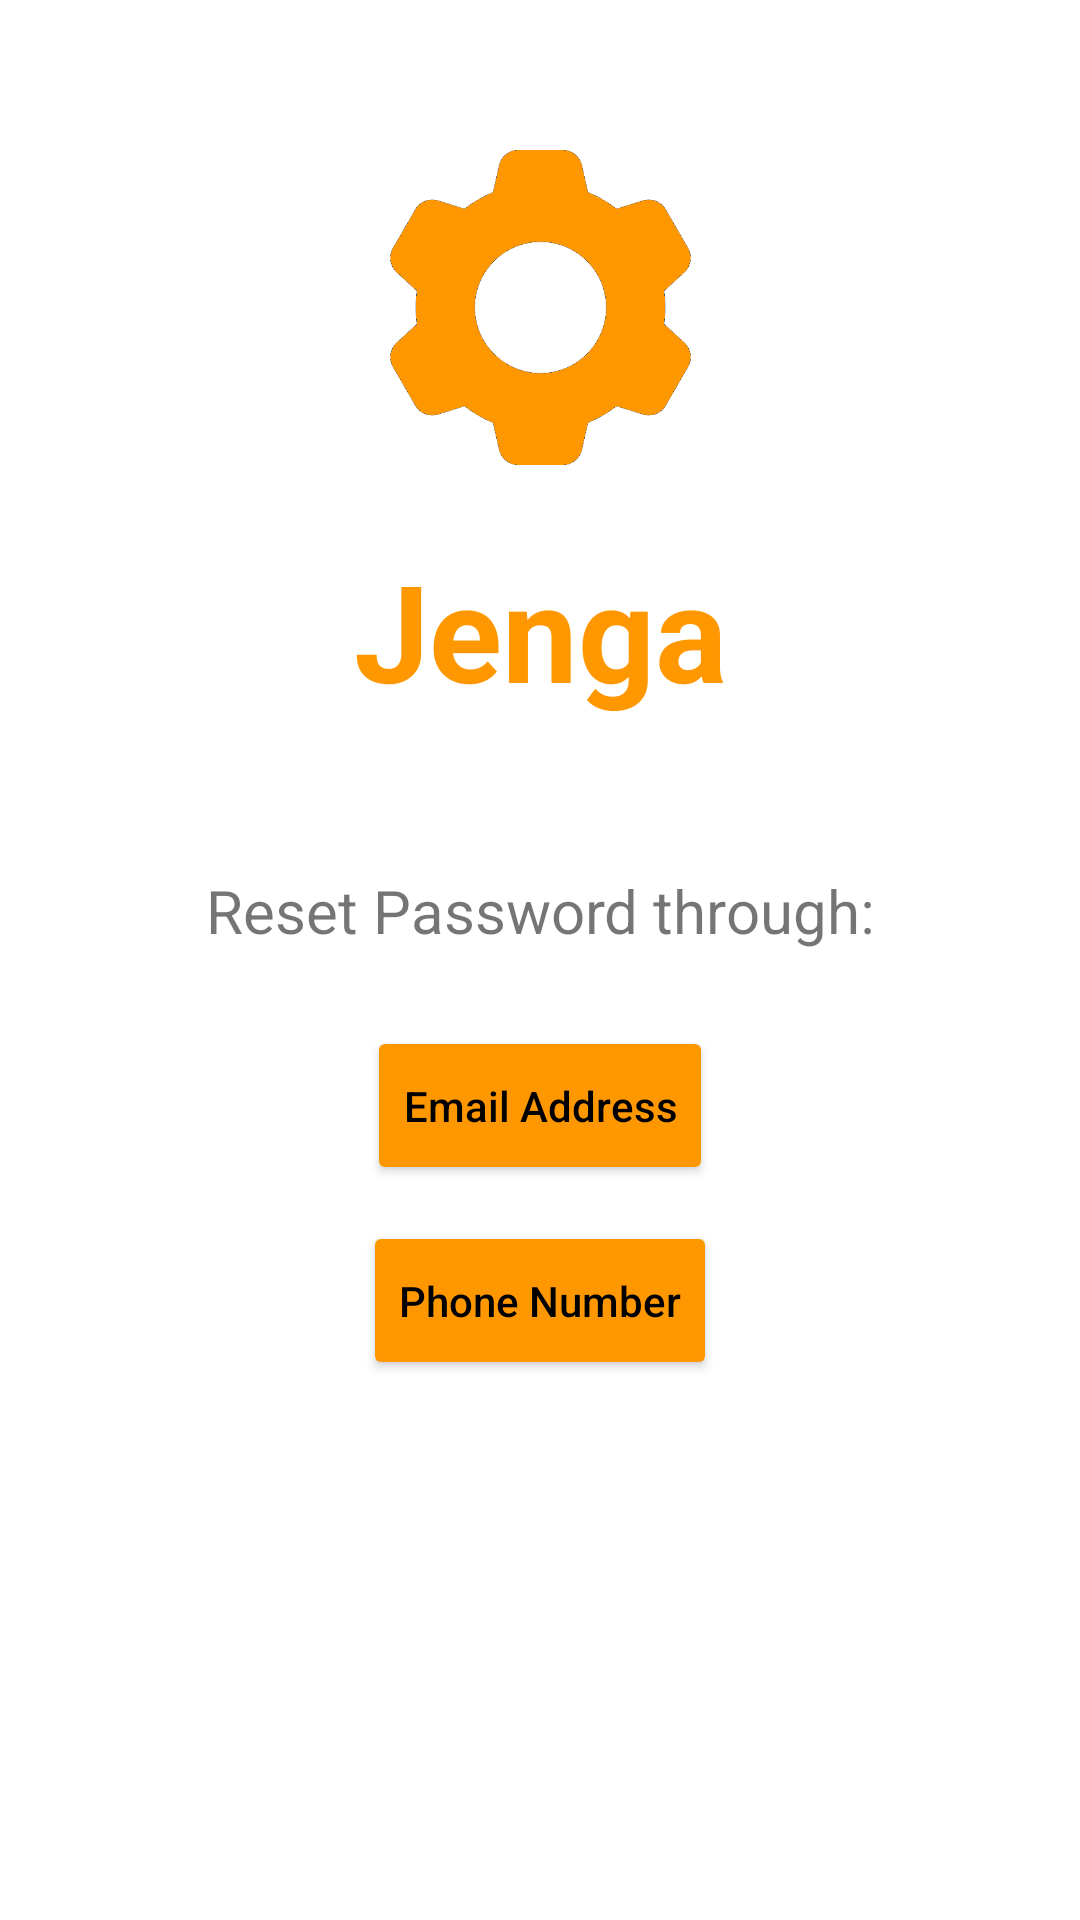

Icon click points for this 1080×1920 phone screenshot, format point (x, y):
cogwheel: point (540, 307)
